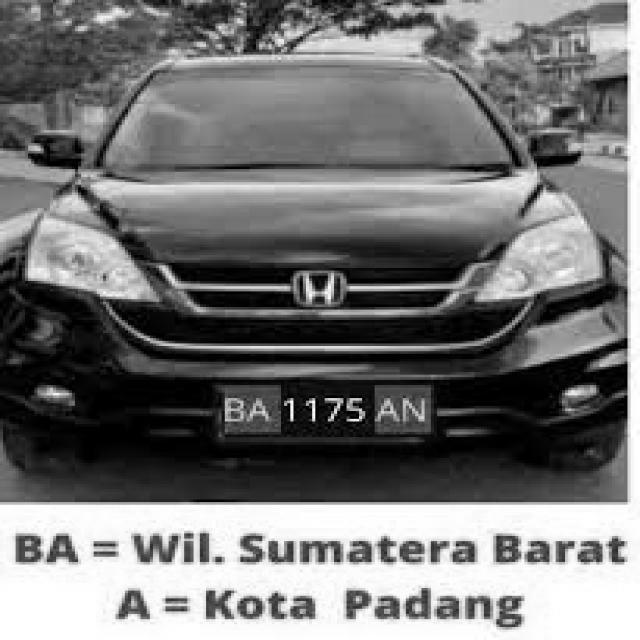1: (299, 394, 321, 431), (281, 392, 300, 430)
5: (343, 394, 366, 426)
7: (320, 394, 344, 426)
A: (376, 394, 402, 436), (245, 397, 272, 423)
B: (222, 394, 245, 424)
N: (402, 396, 428, 426)
